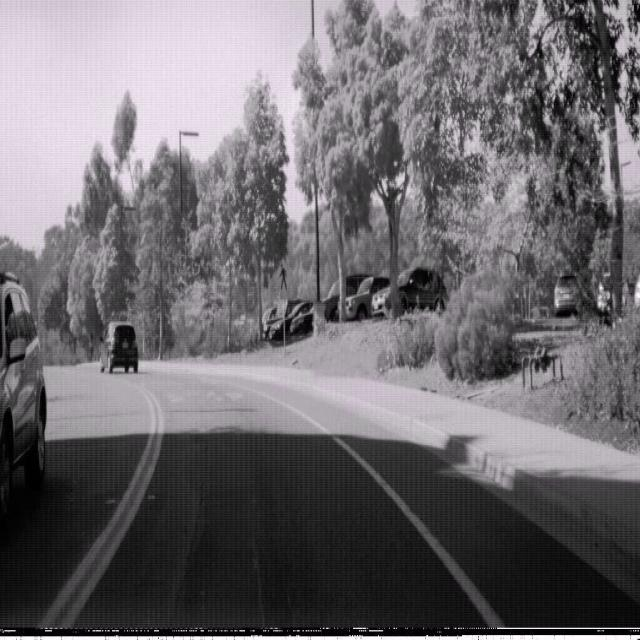pedestrianCrossing: (272, 255, 294, 300)
